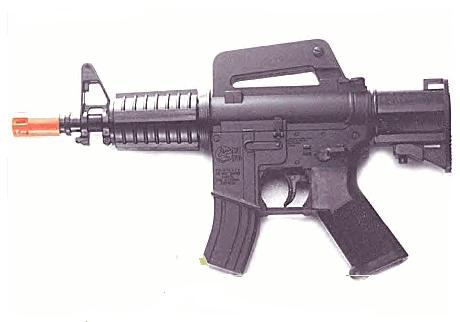rifle: (14, 42, 451, 281)
